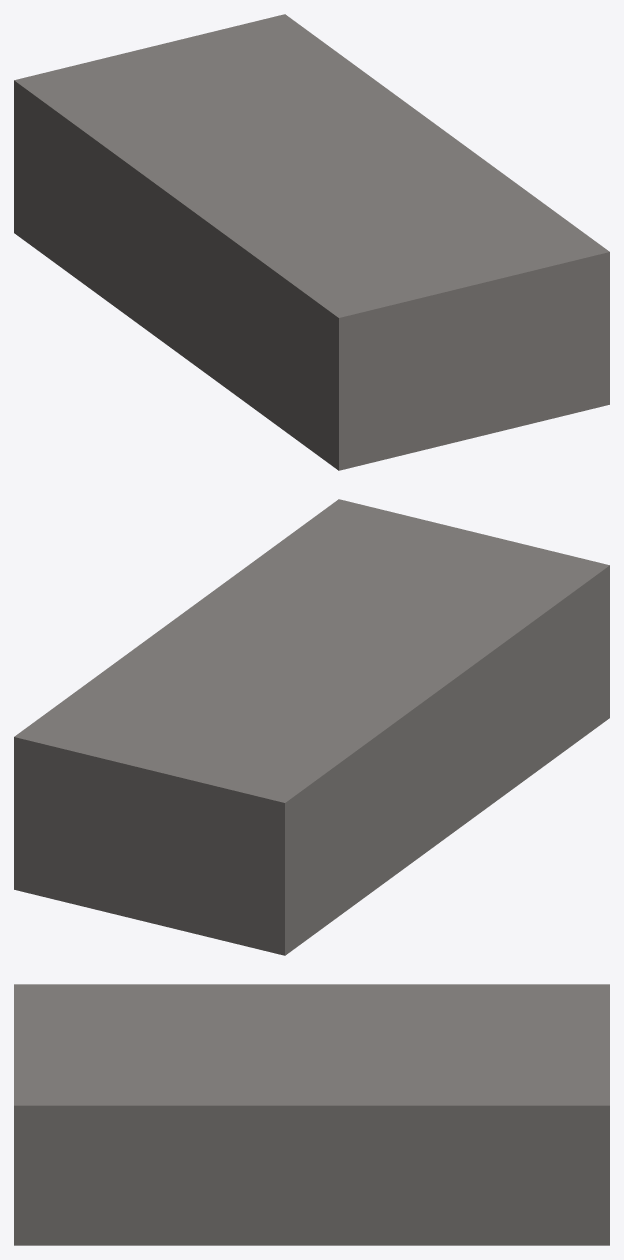
File: MetalCabinet.obj
The picture shows the model from 3 angles, top to bottom: view 1: azimuth 30°, elevation 25°; view 2: azimuth 150°, elevation 25°; view 3: azimuth 270°, elevation 25°; orthographic projection. The views are drawn at different scales.
Parts seen in each view (by area): view 1: MetalCabinet; view 2: MetalCabinet; view 3: MetalCabinet.
Part boxes in pixels (box(x1,y1,x2,y2)): MetalCabinet: box(14, 14, 609, 470); MetalCabinet: box(14, 499, 609, 955); MetalCabinet: box(14, 984, 609, 1245).
Size of the model in its own units: 0.8076 by 0.4487 by 1.68.
1 material, 1 textured.
